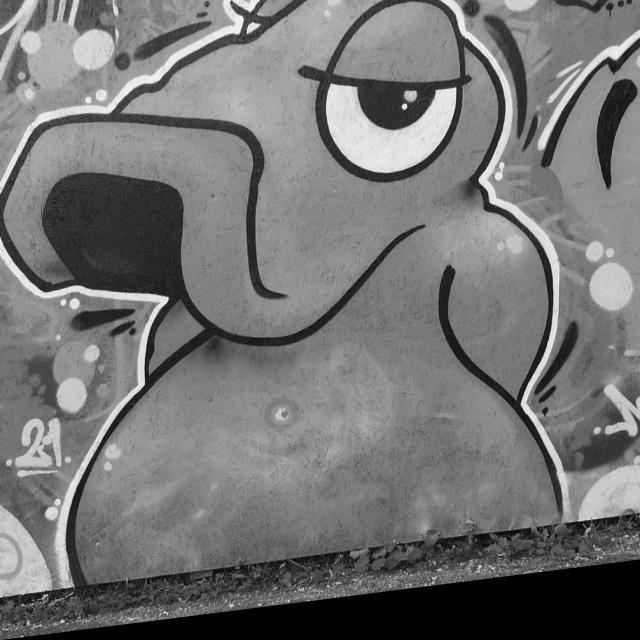-: (9, 0, 573, 598)
